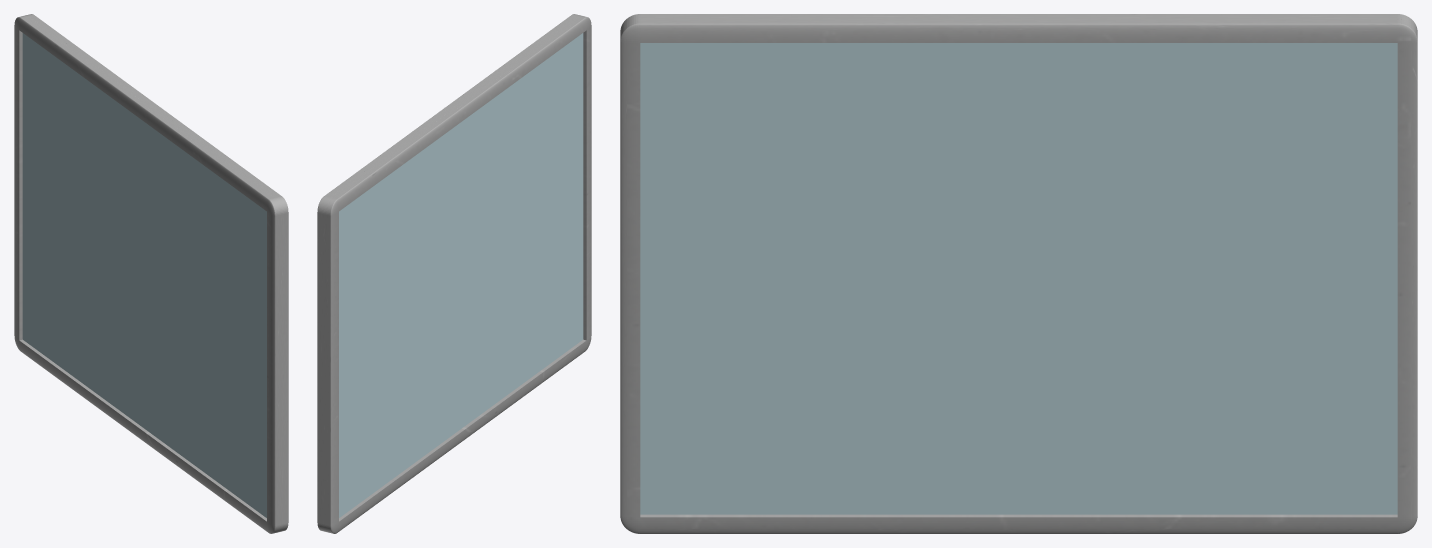
File: whiteboard.fbx
The picture shows the model from 3 angles, left to right: view 1: azimuth 30°, elevation 25°; view 2: azimuth 150°, elevation 25°; view 3: azimuth 270°, elevation 25°; orthographic projection. The views are drawn at different scales.
Parts seen in each view (by area): view 1: Whiteboard_body; view 2: Whiteboard_body; view 3: Whiteboard_body.
Boxes of the visible parts, x1,y1,x2,y2 form: Whiteboard_body: (14, 14, 288, 533); Whiteboard_body: (317, 14, 591, 533); Whiteboard_body: (620, 14, 1417, 533).
Bounding box in the file's own units: 73.81 × 1413 × 2000.
